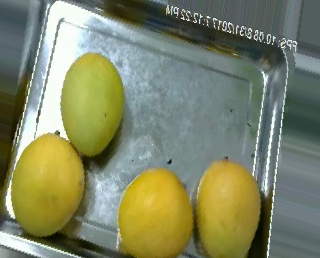Mango: (9, 132, 89, 242), (59, 52, 131, 161), (186, 154, 263, 252), (118, 160, 193, 255)
